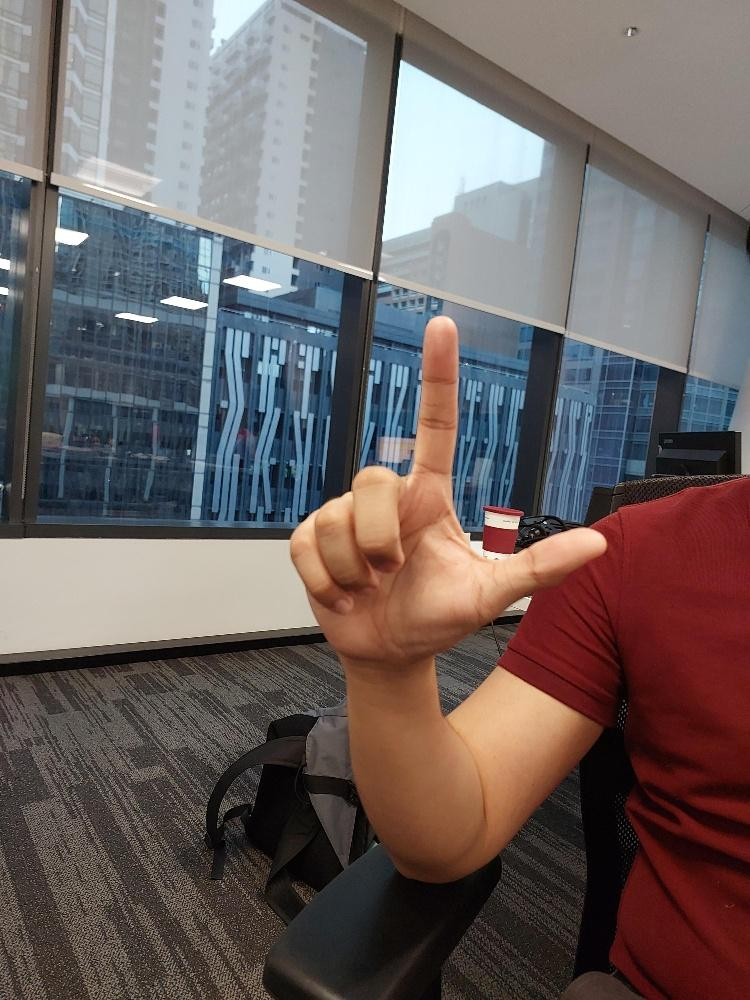l: (284, 310, 610, 670)
